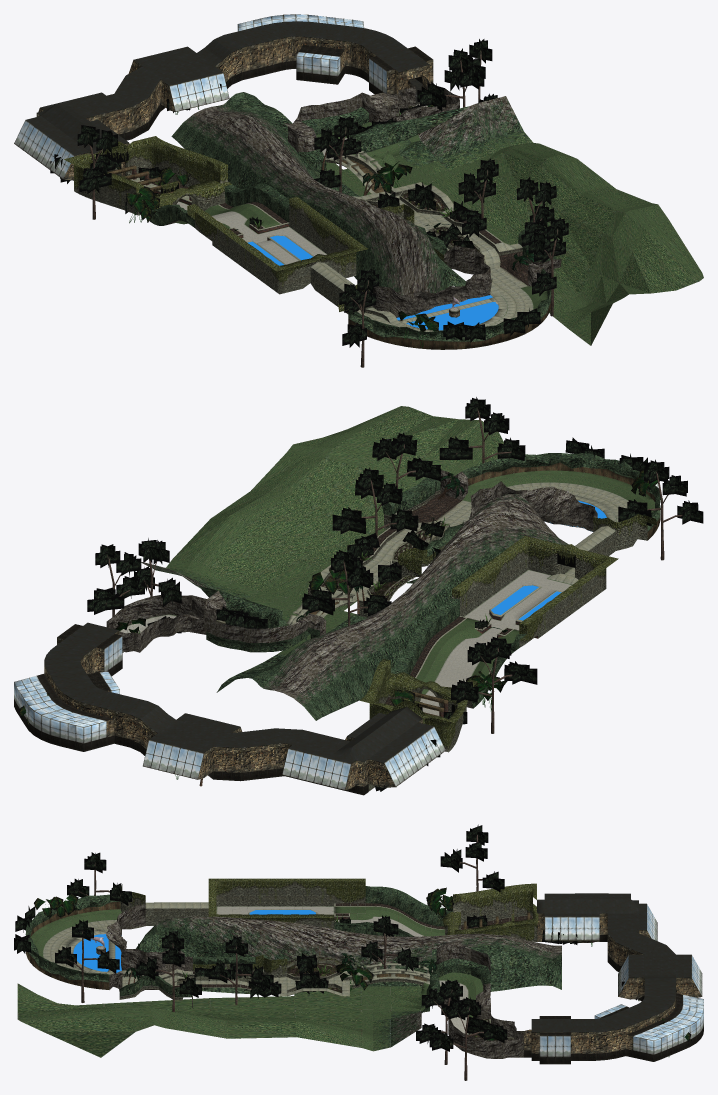
3 views of the same model, one above another, from view 1: azimuth 30°, elevation 25°; view 2: azimuth 150°, elevation 25°; view 3: azimuth 270°, elevation 25° (orthographic). The views are drawn at different scales.
Parts seen in each view (by area): view 1: Garden.001, Garden.006, Garden.009, Garden.003, Garden.004, Garden.005, Garden.007, Garden.002, Garden.008, gardenwater4.m; view 2: Garden.001, Garden.009, Garden.006, Garden.004, Garden.005, Garden.003, Garden.007, Garden.002, Garden.008, gardenwater4.m; view 3: Garden.001, Garden.006, Garden.009, Garden.003, Garden.005, Garden.004, Garden.007, Garden.002, Garden.008, gardenwater4.m.
Part boxes in pixels (x1,y1,x2,y2): Garden.001: [88, 50, 703, 367]; Garden.006: [26, 21, 533, 317]; Garden.009: [50, 39, 568, 347]; Garden.003: [64, 136, 532, 322]; Garden.004: [194, 79, 561, 317]; Garden.005: [115, 92, 556, 341]; Garden.007: [14, 14, 533, 179]; Garden.002: [123, 104, 533, 331]; Garden.008: [36, 36, 433, 179]; gardenwater4.m: [247, 235, 498, 330]; Garden.001: [105, 406, 690, 733]; Garden.009: [18, 397, 703, 791]; Garden.006: [44, 478, 568, 786]; Garden.004: [106, 470, 597, 697]; Garden.005: [178, 453, 660, 787]; Garden.003: [122, 490, 656, 791]; Garden.007: [14, 567, 445, 795]; Garden.002: [119, 482, 628, 778]; Garden.008: [44, 630, 422, 790]; gardenwater4.m: [491, 500, 606, 620]; Garden.001: [17, 834, 530, 1080]; Garden.006: [96, 893, 691, 1046]; Garden.009: [14, 824, 691, 1056]; Garden.003: [119, 878, 599, 1034]; Garden.005: [25, 886, 598, 1040]; Garden.004: [105, 904, 561, 1058]; Garden.007: [373, 904, 703, 1064]; Garden.002: [43, 902, 532, 1034]; Garden.008: [524, 913, 702, 1053]; gardenwater4.m: [73, 910, 315, 972].
Bounding box in the file's own units: 60656 × 15566 × 98349.
11 materials, 11 textured.
